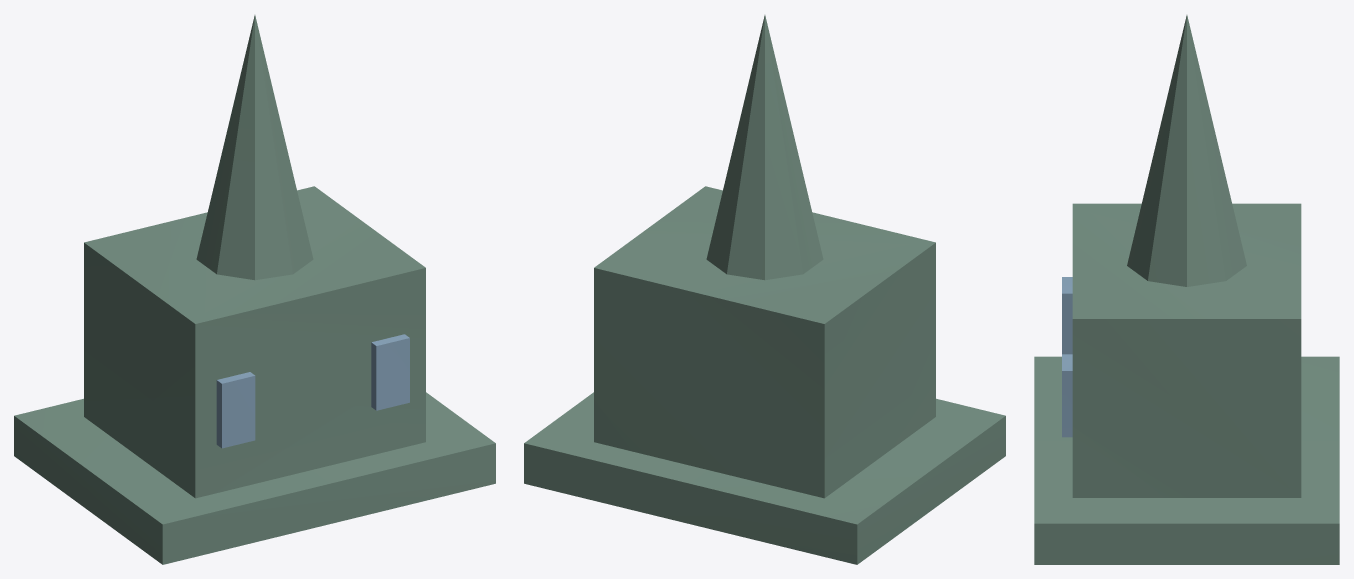
Rendered from monument-04.glb.
3 renders of one model, left to right at view 1: azimuth 30°, elevation 25°; view 2: azimuth 150°, elevation 25°; view 3: azimuth 270°, elevation 25°, orthographic. The views are drawn at different scales.
Visible parts, largest first — view 1: world; view 2: world; view 3: world.
Boxes of the visible parts, x1=… form: world: x1=14, y1=15, x2=495, y2=564; world: x1=524, y1=15, x2=1005, y2=564; world: x1=1034, y1=15, x2=1339, y2=564.
Size of the model in its own units: 1.29 by 1.69 by 1.
